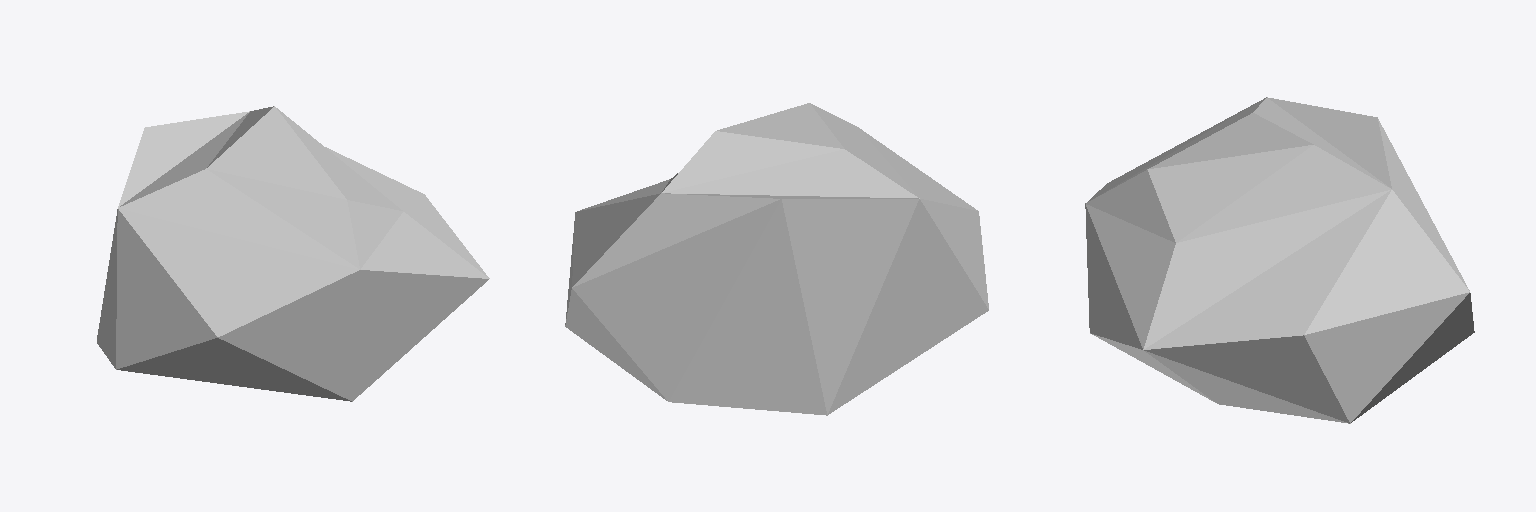
The model's file is bush.obj.
The picture shows the model from 3 angles: view 1: azimuth 30°, elevation 25°; view 2: azimuth 150°, elevation 25°; view 3: azimuth 270°, elevation 25°; orthographic projection.
Visible parts, largest first — view 1: Icosphere_Icosphere.005; view 2: Icosphere_Icosphere.005; view 3: Icosphere_Icosphere.005.
Part boxes in pixels (bbox=[...]): Icosphere_Icosphere.005: bbox=[97, 106, 489, 401]; Icosphere_Icosphere.005: bbox=[565, 103, 988, 415]; Icosphere_Icosphere.005: bbox=[1085, 97, 1474, 423].
Size of the model in its own units: 1.88 by 1.28 by 1.76.